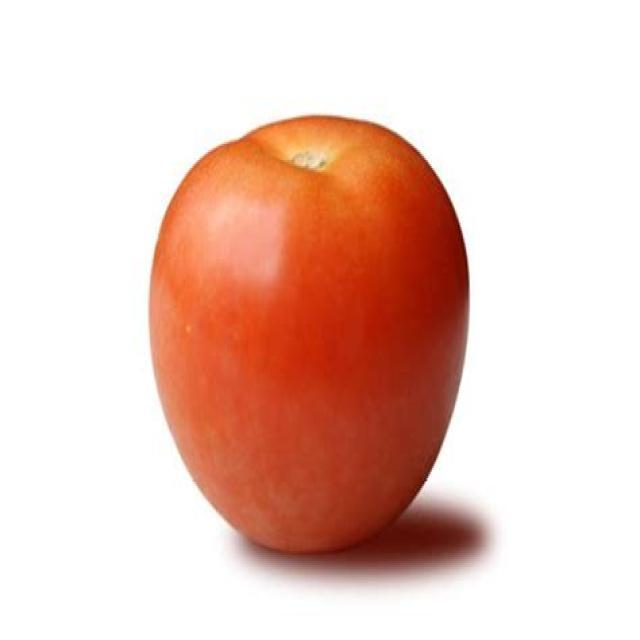Tomato: (147, 116, 471, 558)
